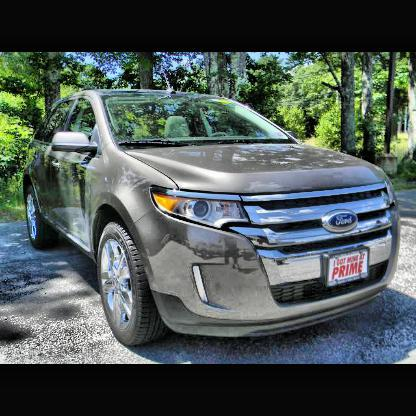Ford Edge SUV 2012: (15, 68, 403, 345)
